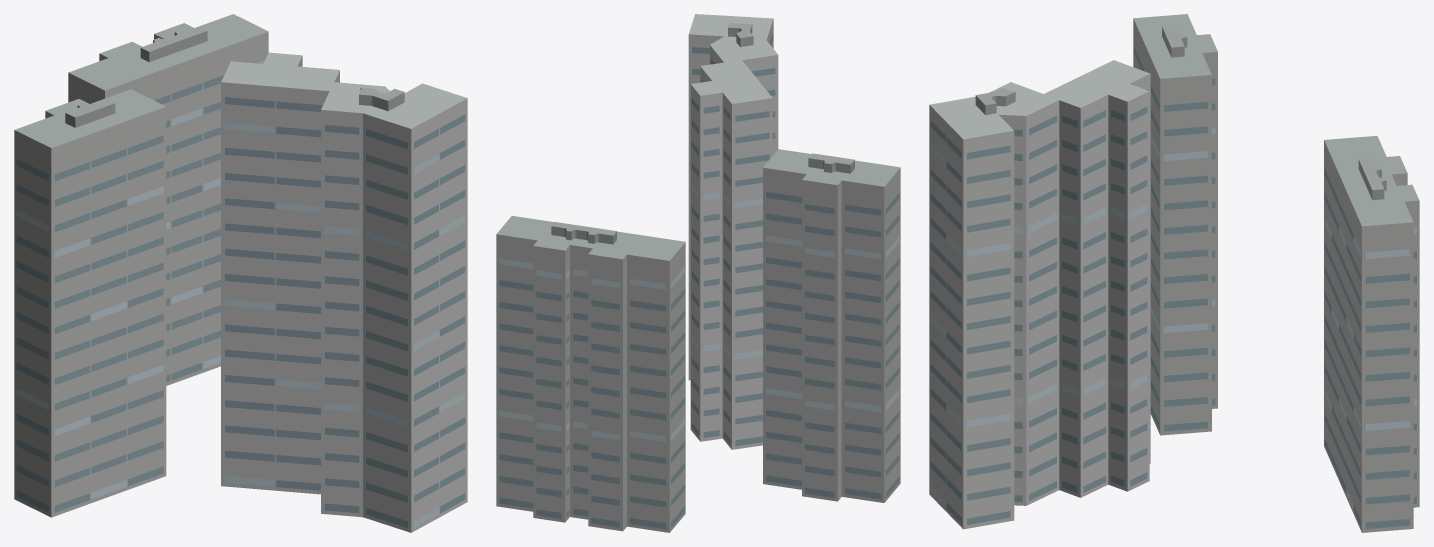
File: apt-a10025418.glb
3 views of the same model, side by side, from view 1: azimuth 30°, elevation 25°; view 2: azimuth 150°, elevation 25°; view 3: azimuth 270°, elevation 25° (orthographic). The views are drawn at different scales.
Parts seen in each view (by area): view 1: apt-a10025418; view 2: apt-a10025418; view 3: apt-a10025418.
Boxes of the visible parts, x1,y1,x2,y2 form: apt-a10025418: (14, 14, 467, 532); apt-a10025418: (496, 14, 900, 532); apt-a10025418: (929, 14, 1419, 532).
Bounding box in the file's own units: 83.6 × 96.01 × 107.
